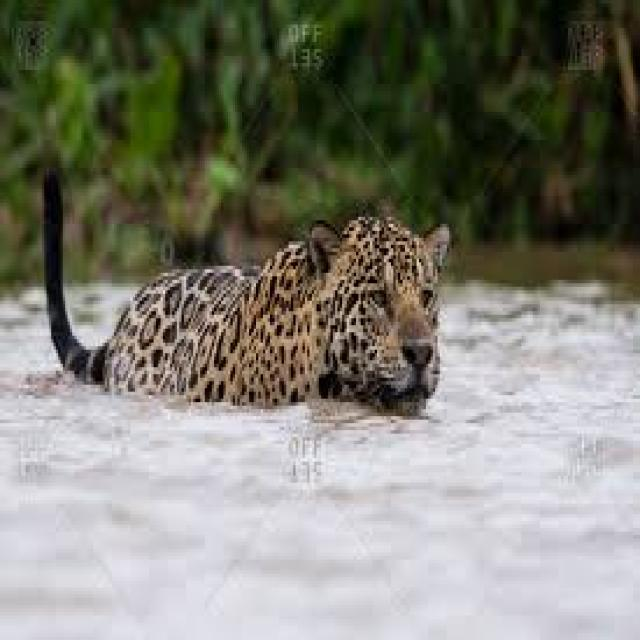Jaguar: (61, 192, 449, 388)
